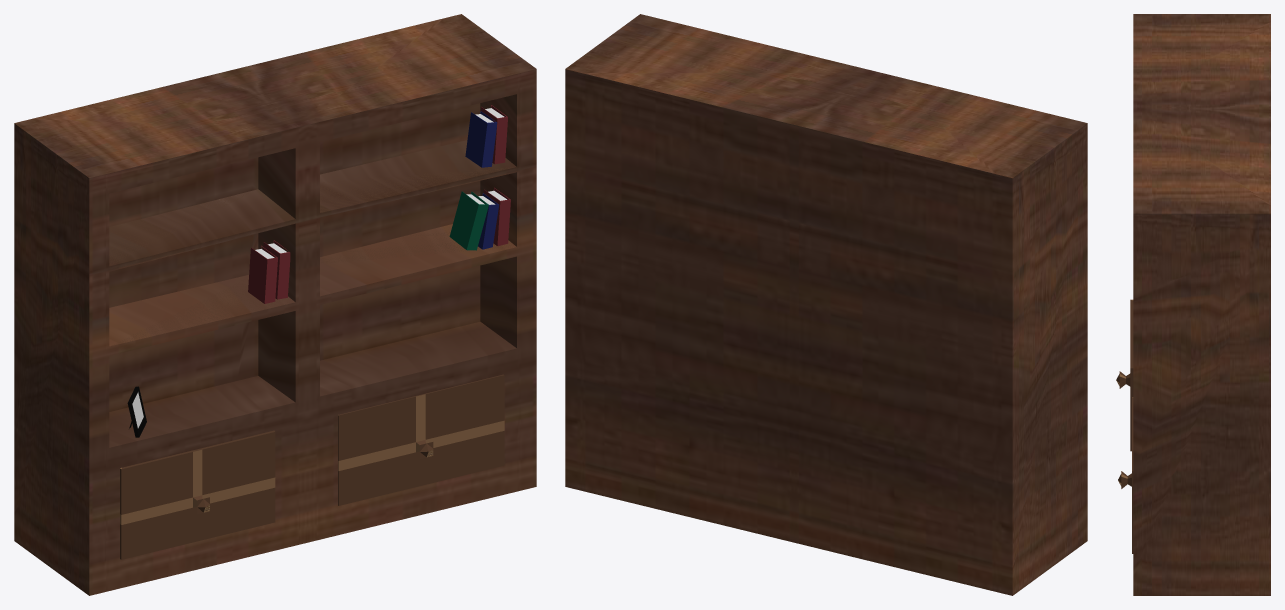
The model's file is BookCase.fbx.
3 renders of one model, left to right at view 1: azimuth 30°, elevation 25°; view 2: azimuth 150°, elevation 25°; view 3: azimuth 270°, elevation 25°, orthographic. The views are drawn at different scales.
Visible parts, largest first — view 1: BookCase, BookCase.001, BookCase.002, Book1.004, Book1.008, Book1.012, Book1.010, Book1, Book1.006; view 2: BookCase; view 3: BookCase, BookCase.002, BookCase.001.
Part boxes in pixels (left/top/right/bottom): BookCase: left=14, top=14, right=536, bottom=595; BookCase.001: left=338, top=374, right=504, bottom=505; BookCase.002: left=120, top=430, right=275, bottom=559; Book1.004: left=449, top=191, right=488, bottom=250; Book1.008: left=465, top=111, right=497, bottom=167; Book1.012: left=248, top=245, right=277, bottom=303; Book1.010: left=263, top=240, right=290, bottom=299; Book1: left=483, top=187, right=510, bottom=246; Book1.006: left=480, top=105, right=507, bottom=164; BookCase: left=565, top=14, right=1087, bottom=595; BookCase: left=1133, top=14, right=1270, bottom=595; BookCase.002: left=1116, top=299, right=1133, bottom=451; BookCase.001: left=1118, top=397, right=1133, bottom=553.
Size of the model in its own units: 485 by 432 by 159.
Materials: 7 (2 with a texture image).
